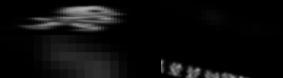helmet: (161, 0, 283, 35)
potion: (0, 35, 161, 78)
zombie: (0, 0, 161, 35)
